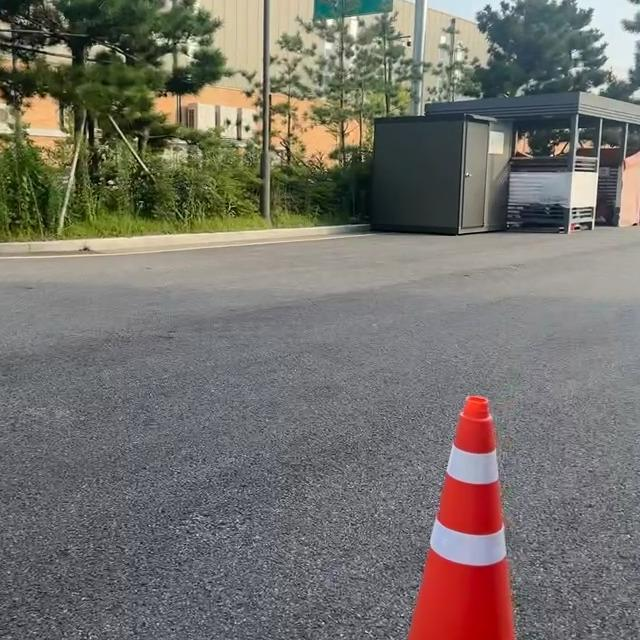fallen_object: (340, 336, 614, 640)
